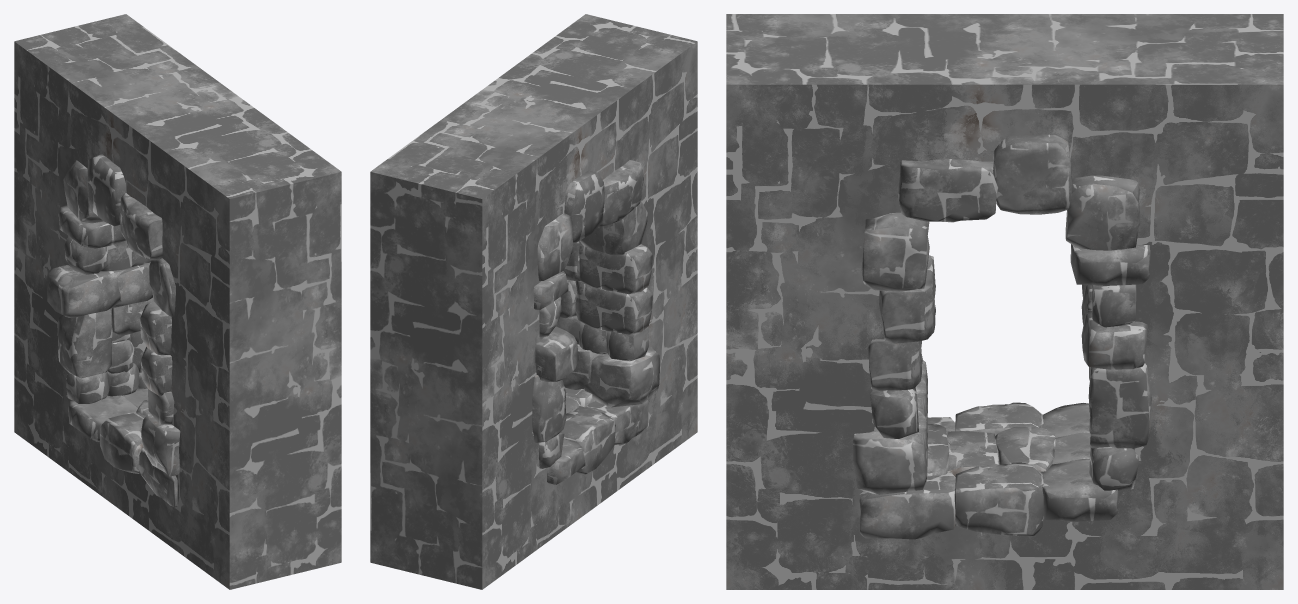
The model's file is Wall_Window_04.fbx.
3 views of the same model, side by side, from view 1: azimuth 30°, elevation 25°; view 2: azimuth 150°, elevation 25°; view 3: azimuth 270°, elevation 25° (orthographic). The views are drawn at different scales.
Visible parts, largest first — view 1: Wall_with_Window.003, rock_1.032; view 2: Wall_with_Window.003, rock_1.032; view 3: Wall_with_Window.003, rock_1.032.
Boxes of the visible parts, x1,y1,x2,y2 form: Wall_with_Window.003: (14, 14, 341, 589); rock_1.032: (47, 154, 180, 507); Wall_with_Window.003: (370, 14, 697, 589); rock_1.032: (532, 160, 659, 484); Wall_with_Window.003: (726, 14, 1283, 589); rock_1.032: (852, 134, 1151, 539).
Bounding box in the file's own units: 2.08 × 5 × 5.
